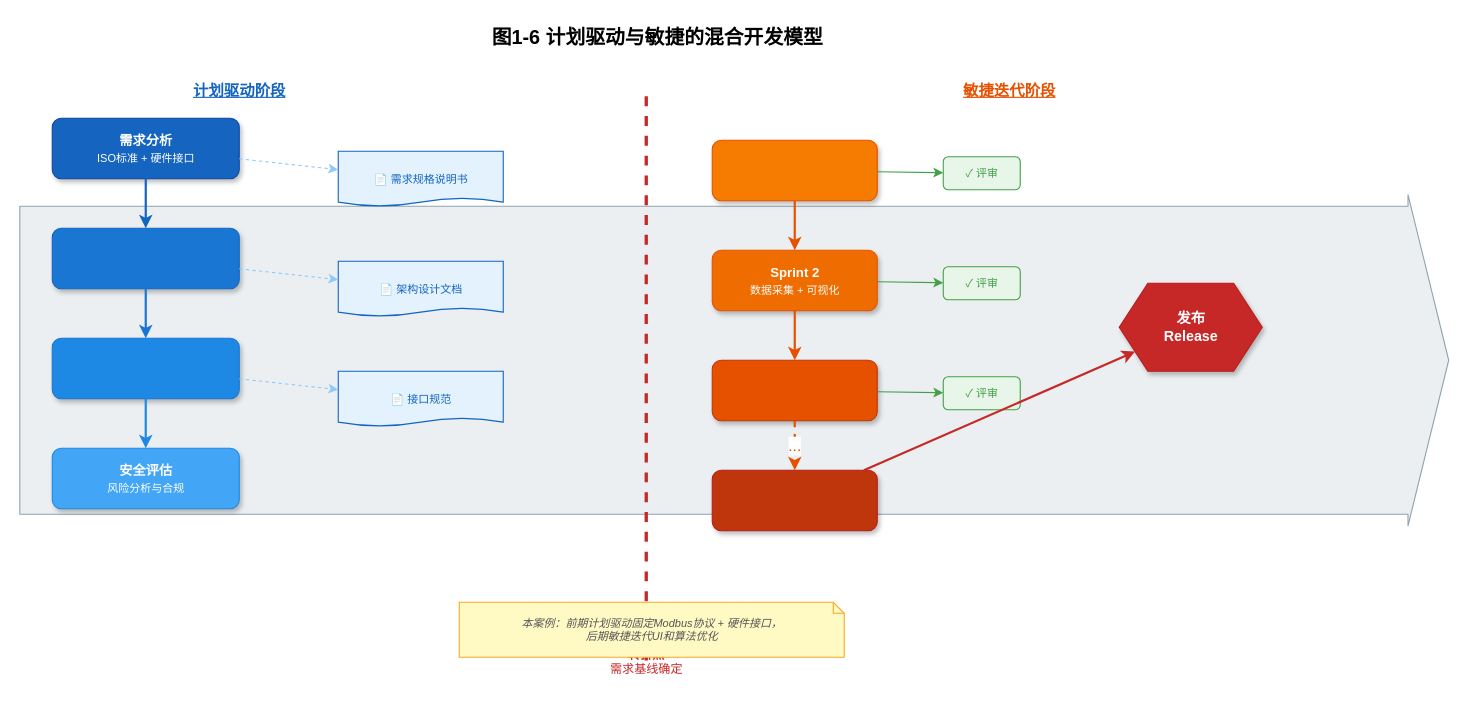
Some shapes in this 1467 by 703 pixel diagram are drawn without their labels. Each missing label, with the centre of its shape:
"Sprint 1 硬件通信模块" belongs at (x=795, y=171).
"Sprint 3 PID控制 + 火焰检测" belongs at (x=795, y=391).
"Sprint N 报告生成 + UI优化" belongs at (x=795, y=501).
"协议定义 Modbus寄存器映射" belongs at (x=146, y=369).
"架构设计 分层架构 + 技术选型" belongs at (x=146, y=259).
